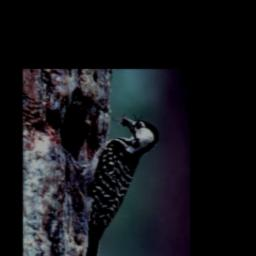Woodpecker: (72, 113, 161, 256)
